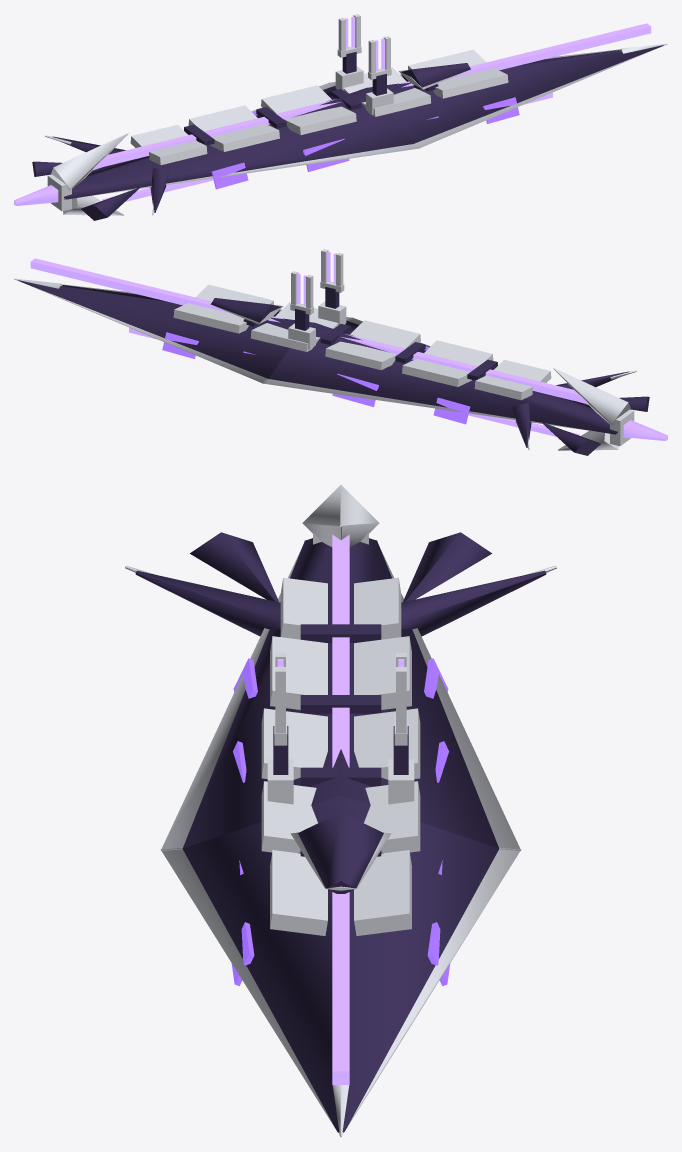
The model's file is cruiser-hadron.glb.
3 views of the same model, one above another, from view 1: azimuth 30°, elevation 25°; view 2: azimuth 150°, elevation 25°; view 3: azimuth 270°, elevation 25° (orthographic). The views are drawn at different scales.
Parts seen in each view (by area): view 1: hull_aft, hull_fore, crystal_spine, fin_dorsal, armor_0_s, armor_2_s, hull_aft_edge, hull_fore_edge, armor_3_s, armor_2_p, armor_3_p, citadel (+20 smaller); view 2: hull_aft, hull_fore, crystal_spine, fin_dorsal, armor_0_p, armor_2_p, hull_aft_edge, hull_fore_edge, armor_3_p, armor_2_s, armor_3_s, citadel (+20 smaller); view 3: hull_fore, hull_aft, crystal_spine, hull_fore_edge, hull_aft_edge, citadel, armor_0_p, armor_0_s, guard_wing_p, guard_wing_s, armor_3_p, armor_3_s (+14 smaller).
Part boxes in pixels (left/top/right/bottom): hull_aft: left=64, top=86, right=413, bottom=199; hull_fore: left=367, top=45, right=663, bottom=143; crystal_spine: left=93, top=23, right=651, bottom=169; fin_dorsal: left=50, top=133, right=128, bottom=190; armor_0_s: left=432, top=68, right=508, bottom=98; armor_2_s: left=284, top=106, right=356, bottom=134; hull_aft_edge: left=63, top=82, right=419, bottom=199; hull_fore_edge: left=328, top=45, right=664, bottom=148; armor_3_s: left=210, top=123, right=279, bottom=151; armor_2_p: left=261, top=85, right=331, bottom=113; armor_3_p: left=188, top=105, right=257, bottom=131; citadel: left=401, top=63, right=470, bottom=89; hull_aft: left=268, top=321, right=617, bottom=434; hull_fore: left=18, top=280, right=314, bottom=378; crystal_spine: left=30, top=258, right=588, bottom=404; fin_dorsal: left=553, top=368, right=631, bottom=425; armor_0_p: left=173, top=303, right=249, bottom=333; armor_2_p: left=325, top=341, right=397, bottom=369; hull_aft_edge: left=262, top=317, right=618, bottom=434; hull_fore_edge: left=17, top=280, right=353, bottom=383; armor_3_p: left=402, top=358, right=471, bottom=386; armor_2_s: left=350, top=320, right=420, bottom=348; armor_3_s: left=424, top=340, right=493, bottom=366; citadel: left=211, top=298, right=280, bottom=324; hull_fore: left=183, top=795, right=498, bottom=1132; hull_aft: left=183, top=538, right=498, bottom=848; crystal_spine: left=332, top=534, right=349, bottom=1084; hull_fore_edge: left=161, top=848, right=520, bottom=1132; hull_aft_edge: left=160, top=540, right=521, bottom=850; citadel: left=298, top=812, right=383, bottom=893; armor_0_p: left=354, top=850, right=411, bottom=935; armor_0_s: left=270, top=850, right=327, bottom=935; guard_wing_p: left=401, top=570, right=546, bottom=636; guard_wing_s: left=135, top=570, right=280, bottom=636; armor_3_p: left=354, top=636, right=411, bottom=709; armor_3_s: left=270, top=636, right=327, bottom=709.
Size of the model in its own units: 130 by 24.46 by 37.26.
